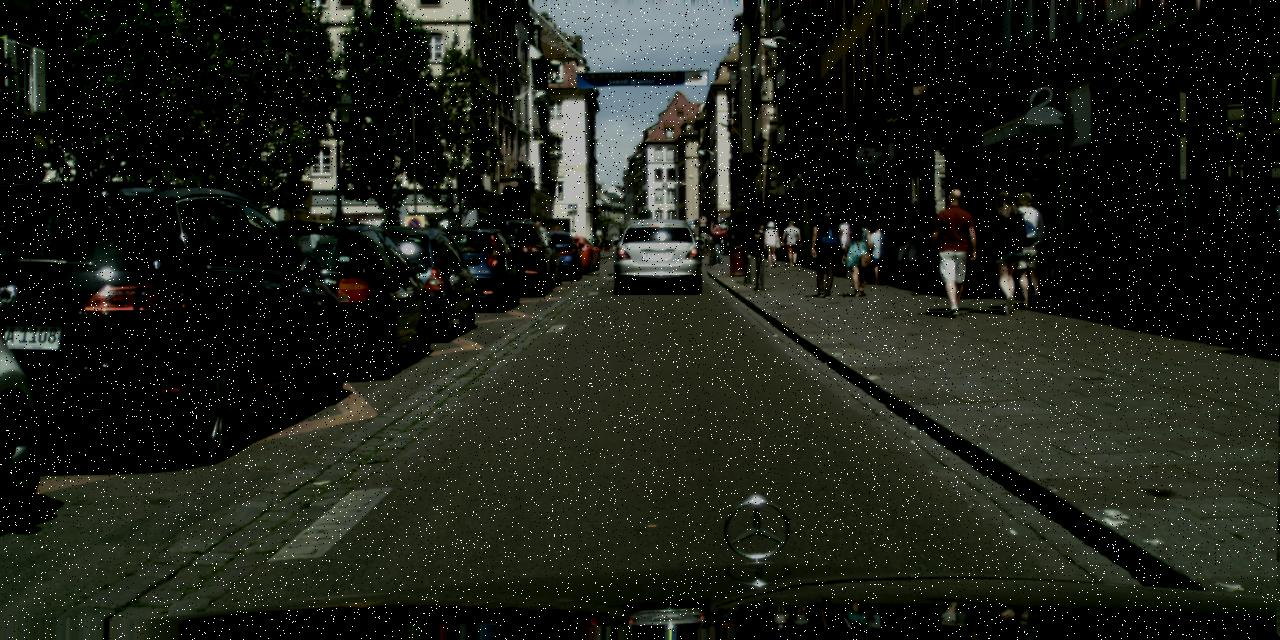ped: (930, 187, 982, 317), (980, 189, 1031, 313), (1005, 191, 1053, 308), (806, 202, 844, 297), (843, 214, 877, 296), (916, 200, 949, 281), (892, 204, 924, 284), (866, 220, 891, 284), (838, 219, 861, 277), (762, 221, 781, 266), (782, 220, 801, 265), (706, 217, 724, 263), (774, 222, 788, 258), (721, 229, 741, 253), (754, 224, 767, 258), (696, 229, 708, 257)
